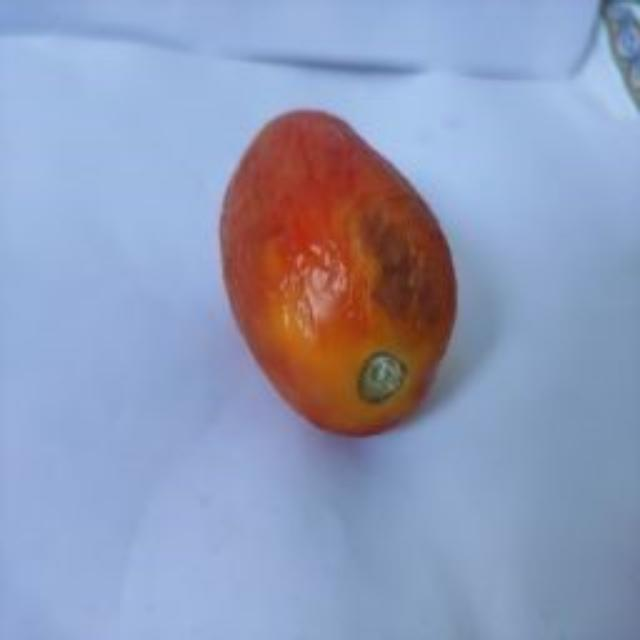defect: (216, 108, 462, 438)
